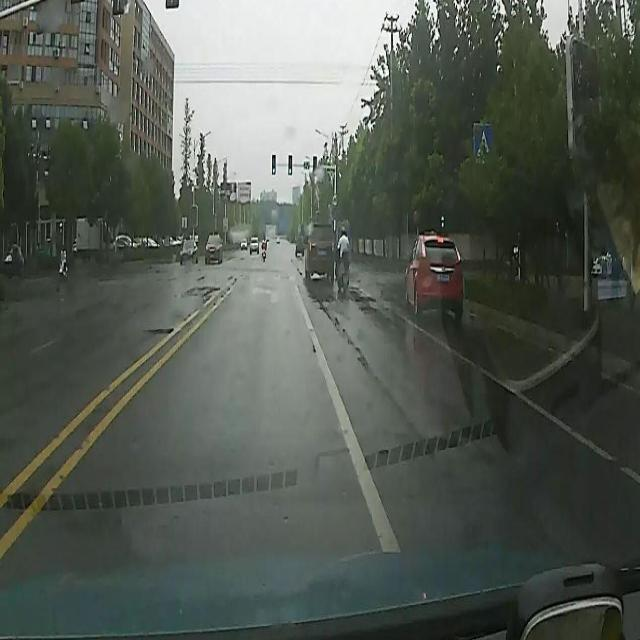car: (402, 232, 463, 318), (302, 216, 338, 280), (176, 234, 198, 266), (203, 232, 224, 262), (247, 231, 260, 257), (237, 235, 249, 252)
